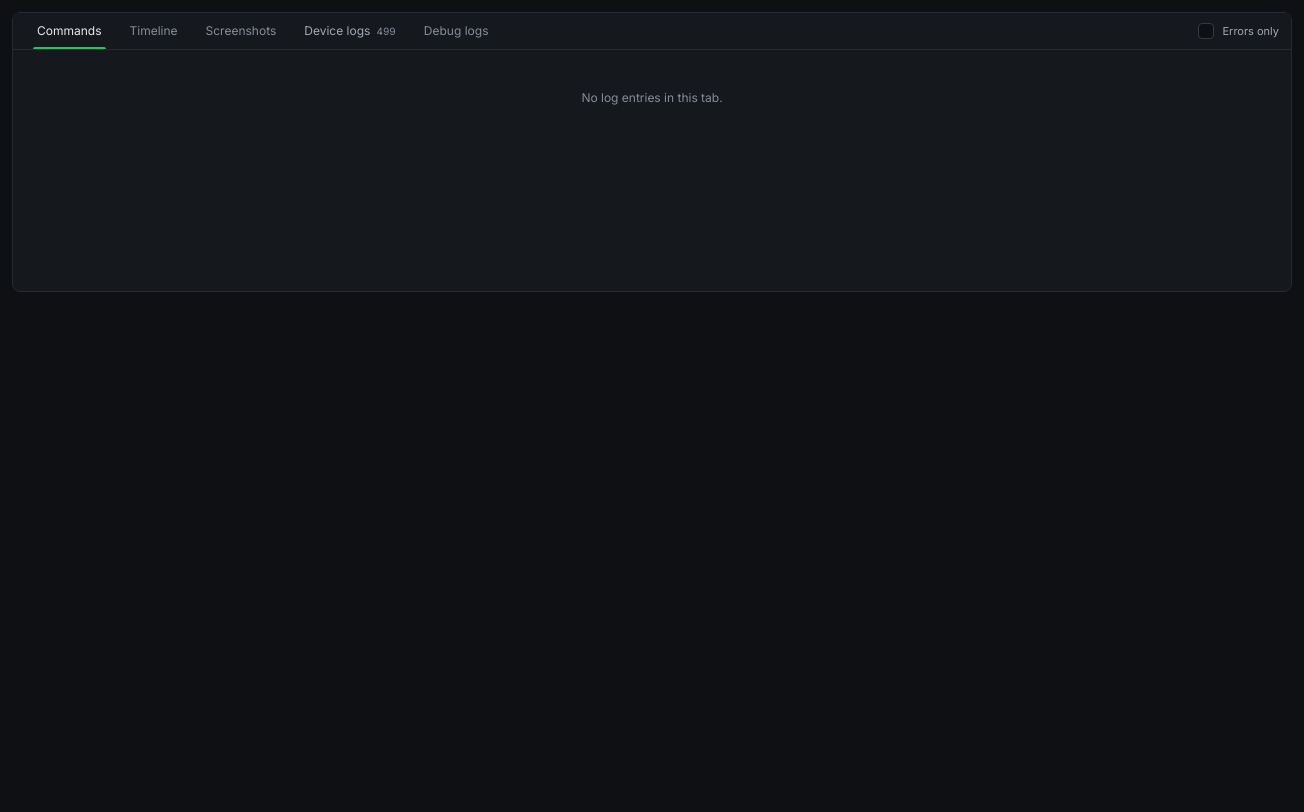
Test case: LogViewer: a long Device logs tab › draws a short list whole, as before
The width and height of the screenshot is (1304, 812).
Click the button "Device logs 499" at (350, 31), box [292,13,408,49]
(page scrolled)
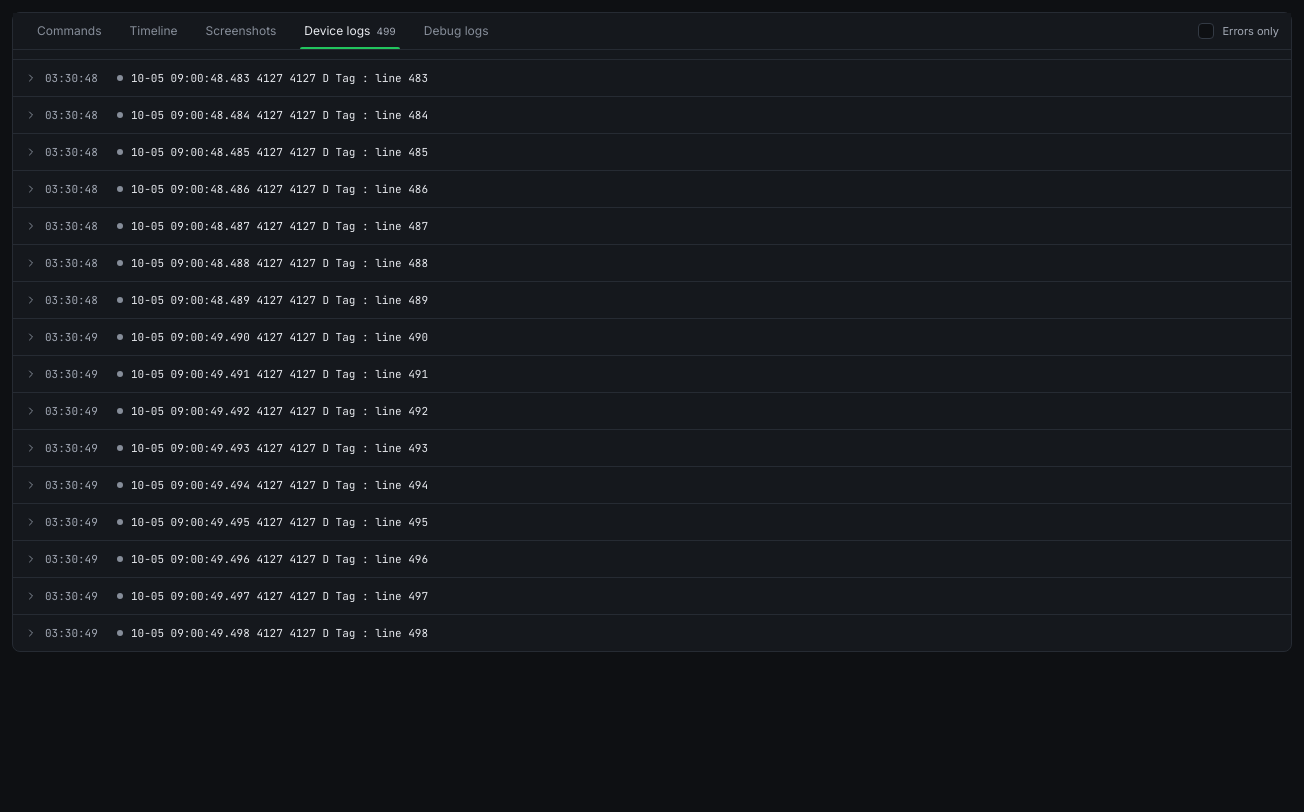
Now the text "10-05 09:00:49.498 4127 4127 D Tag : line 498" is shown, box [131,625,428,641]
